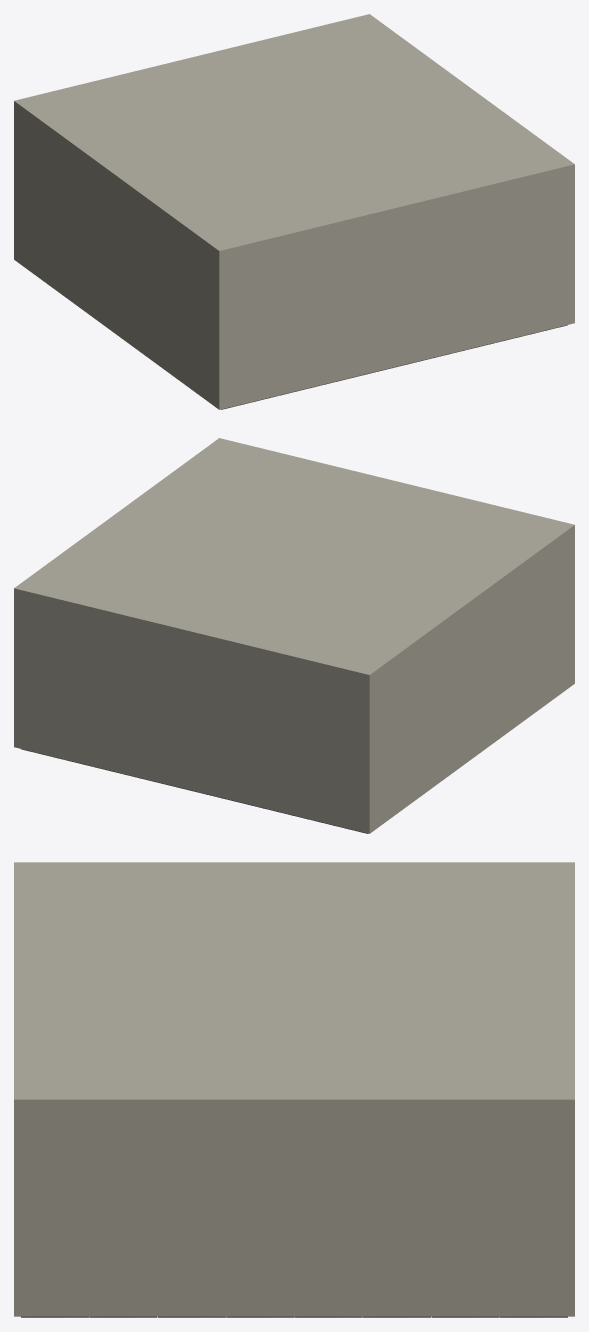
File: manufactory-room.glb
3 renders of one model, top to bottom at view 1: azimuth 30°, elevation 25°; view 2: azimuth 150°, elevation 25°; view 3: azimuth 270°, elevation 25°, orthographic. The views are drawn at different scales.
Parts seen in each view (by area): view 1: Wall; view 2: Wall; view 3: Wall, Floor board.
Boxes of the visible parts, left/top/right/bottom form: Wall: left=14, top=14, right=574, bottom=409; Wall: left=14, top=438, right=574, bottom=833; Wall: left=14, top=862, right=574, bottom=1316; Floor board: left=21, top=1316, right=567, bottom=1317.
Bounding box in the file's own units: 8.2 × 3.56 × 8.2.
9 materials, 2 textured.
